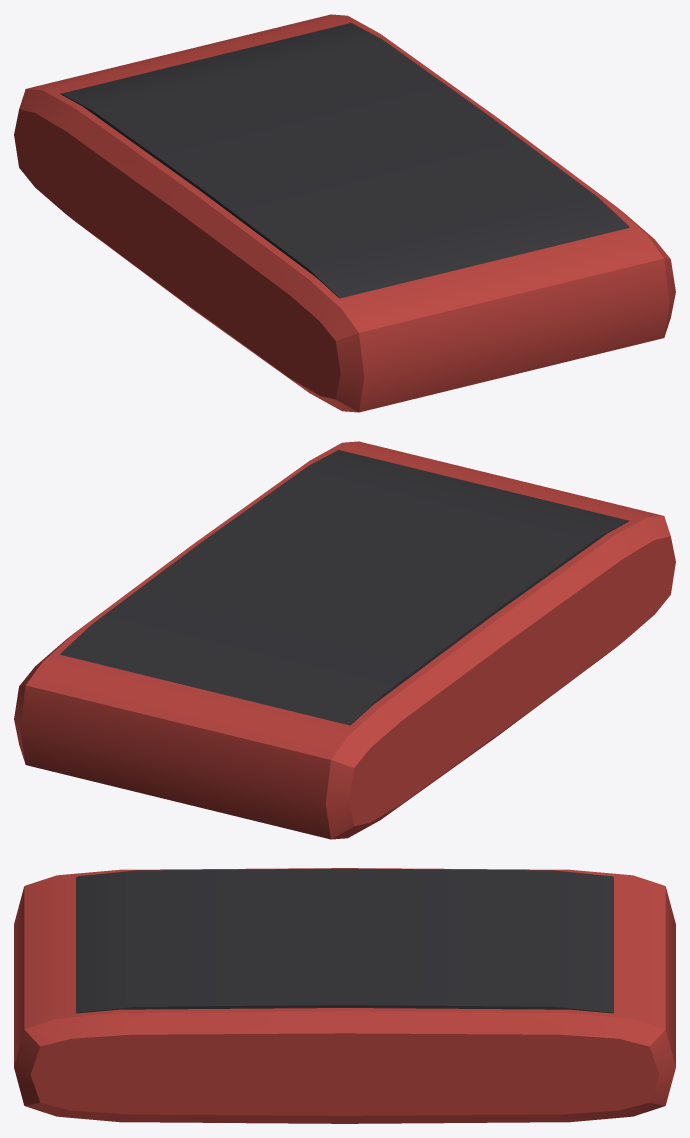
Rendered from lcd_lod1.glb.
3 views of the same model, one above another, from view 1: azimuth 30°, elevation 25°; view 2: azimuth 150°, elevation 25°; view 3: azimuth 270°, elevation 25° (orthographic). The views are drawn at different scales.
Parts seen in each view (by area): view 1: lcd_lod1; view 2: lcd_lod1; view 3: lcd_lod1.
Part boxes in pixels (bbox=[...]): lcd_lod1: bbox=[14, 14, 675, 412]; lcd_lod1: bbox=[14, 441, 675, 839]; lcd_lod1: bbox=[14, 868, 675, 1123].
Size of the model in its own units: 0.09 by 0.0428 by 0.16.
